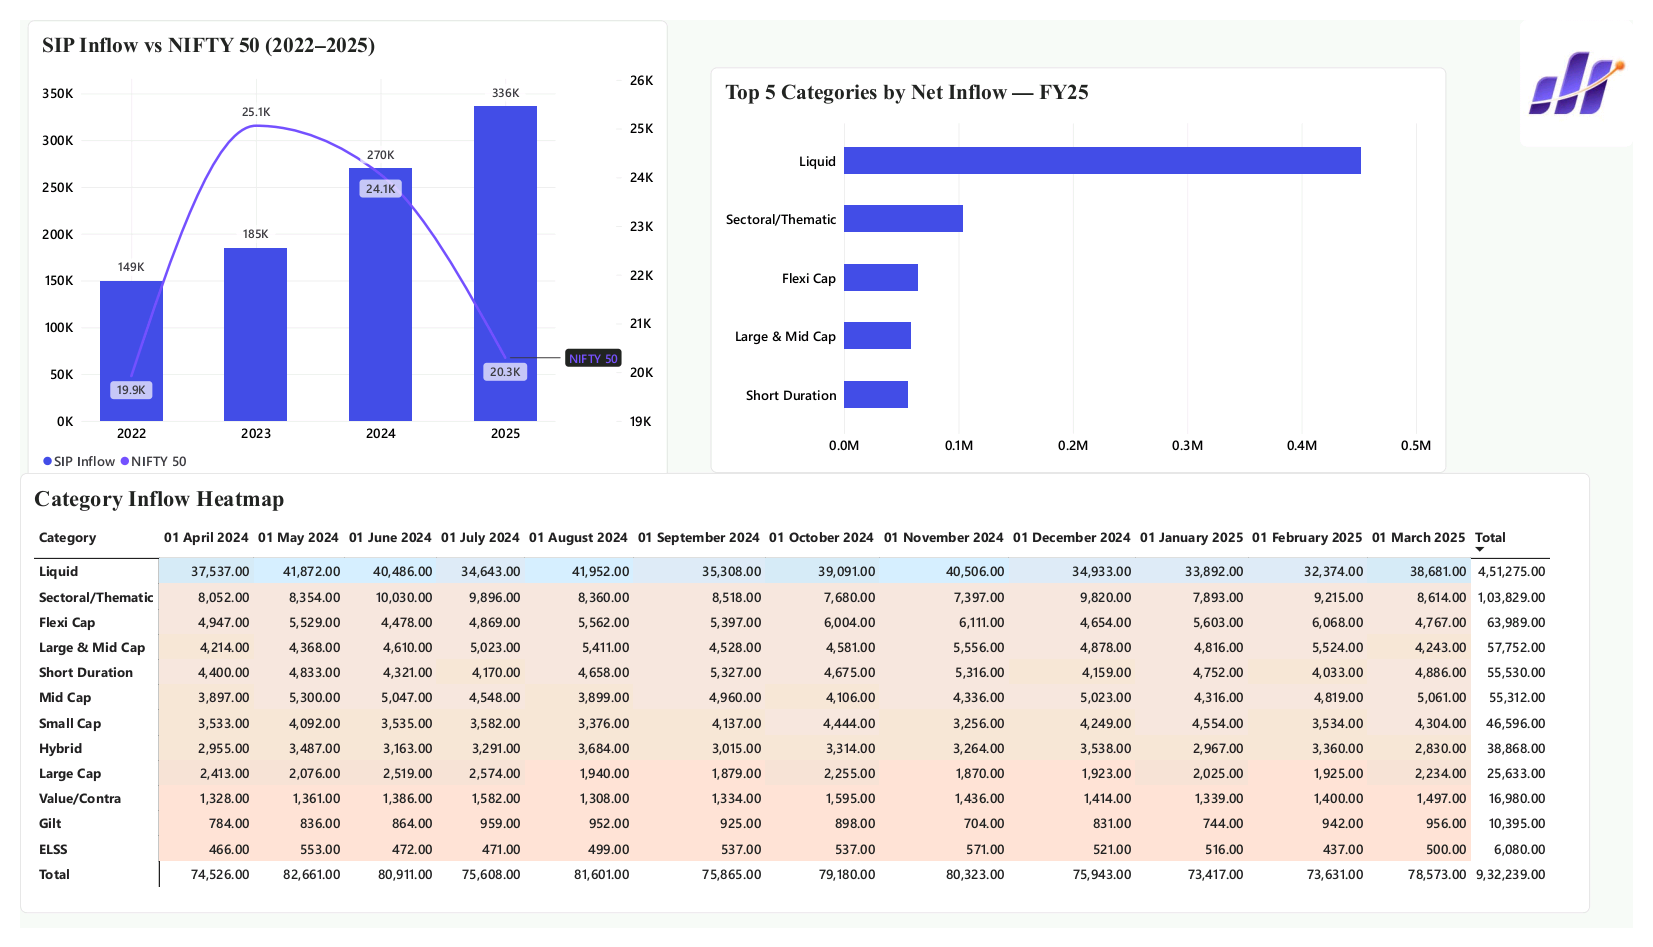

Layout of this report page (visuals, bound fields, positions):
{"tool":"powerbi","page":{"name":"SIP & Market Trends","canvas":[1920,1080],"ordinal":3},"visuals":[{"type":"lineClusteredColumnComboChart","title":"SIP Inflow vs NIFTY 50 (2022–2025)","fields":{"Category":["dim_date.date.Variation.Date Hierarchy.Year"],"Y":["fact_sip.SIP Inflow"],"Y2":["fact_benchmark.NIFTY 50"]},"box":[8.9,0,761.9,557],"z":0},{"type":"pivotTable","title":"Category Inflow Heatmap","fields":{"Columns":["fact_category_inflows.month"],"Rows":["fact_category_inflows.category"],"Values":["Sum(fact_category_inflows.net_inflow_crore)"]},"box":[0,539.2,1869.2,523.6],"z":1000},{"type":"clusteredBarChart","title":"Top 5 Categories by Net Inflow — FY25","fields":{"Category":["fact_category_inflows.category","fact_category_inflows.month"],"Y":["Sum(fact_category_inflows.net_inflow_crore)"]},"box":[861.7,0,875.6,483.5],"z":2000},{"type":"image","box":[1786,0,134,150],"z":3000}]}

Visuals, with their boxes in screenshot pixels (x1, y1, x2, y2), scaled from the page's 1920x1080 canvas onto the 1653x947 screenshot:
"SIP Inflow vs NIFTY 50 (2022–2025)" lineClusteredColumnComboChart: left=8, top=0, right=664, bottom=488
"Category Inflow Heatmap" pivotTable: left=0, top=473, right=1609, bottom=932
"Top 5 Categories by Net Inflow — FY25" clusteredBarChart: left=742, top=0, right=1496, bottom=424
image: left=1538, top=0, right=1652, bottom=132
